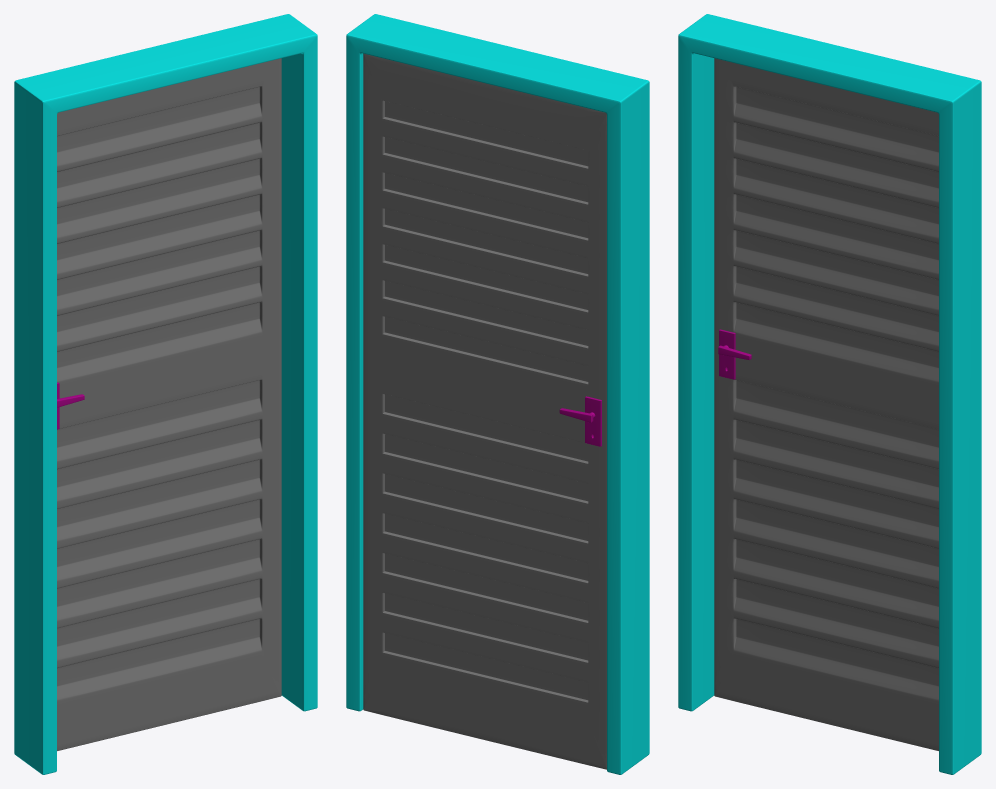
File: INTE_PortaMetal.fbx
3 views of the same model, side by side, from view 1: azimuth 30°, elevation 25°; view 2: azimuth 150°, elevation 25°; view 3: azimuth 330°, elevation 25° (orthographic).
Visible parts, largest first — view 1: Porta, Batente; view 2: Porta, Batente, Macaneta_Dentro; view 3: Porta, Batente, Macaneta_Fora.
Part boxes in pixels (bbox=[...]): Porta: bbox=[57, 58, 281, 750]; Batente: bbox=[14, 14, 317, 774]; Porta: bbox=[363, 53, 606, 769]; Batente: bbox=[346, 14, 649, 774]; Macaneta_Dentro: bbox=[559, 396, 601, 446]; Porta: bbox=[714, 58, 938, 750]; Batente: bbox=[678, 14, 981, 774]; Macaneta_Fora: bbox=[718, 329, 751, 379].
Size of the model in its own units: 9.2 by 21.5 by 1.94.
